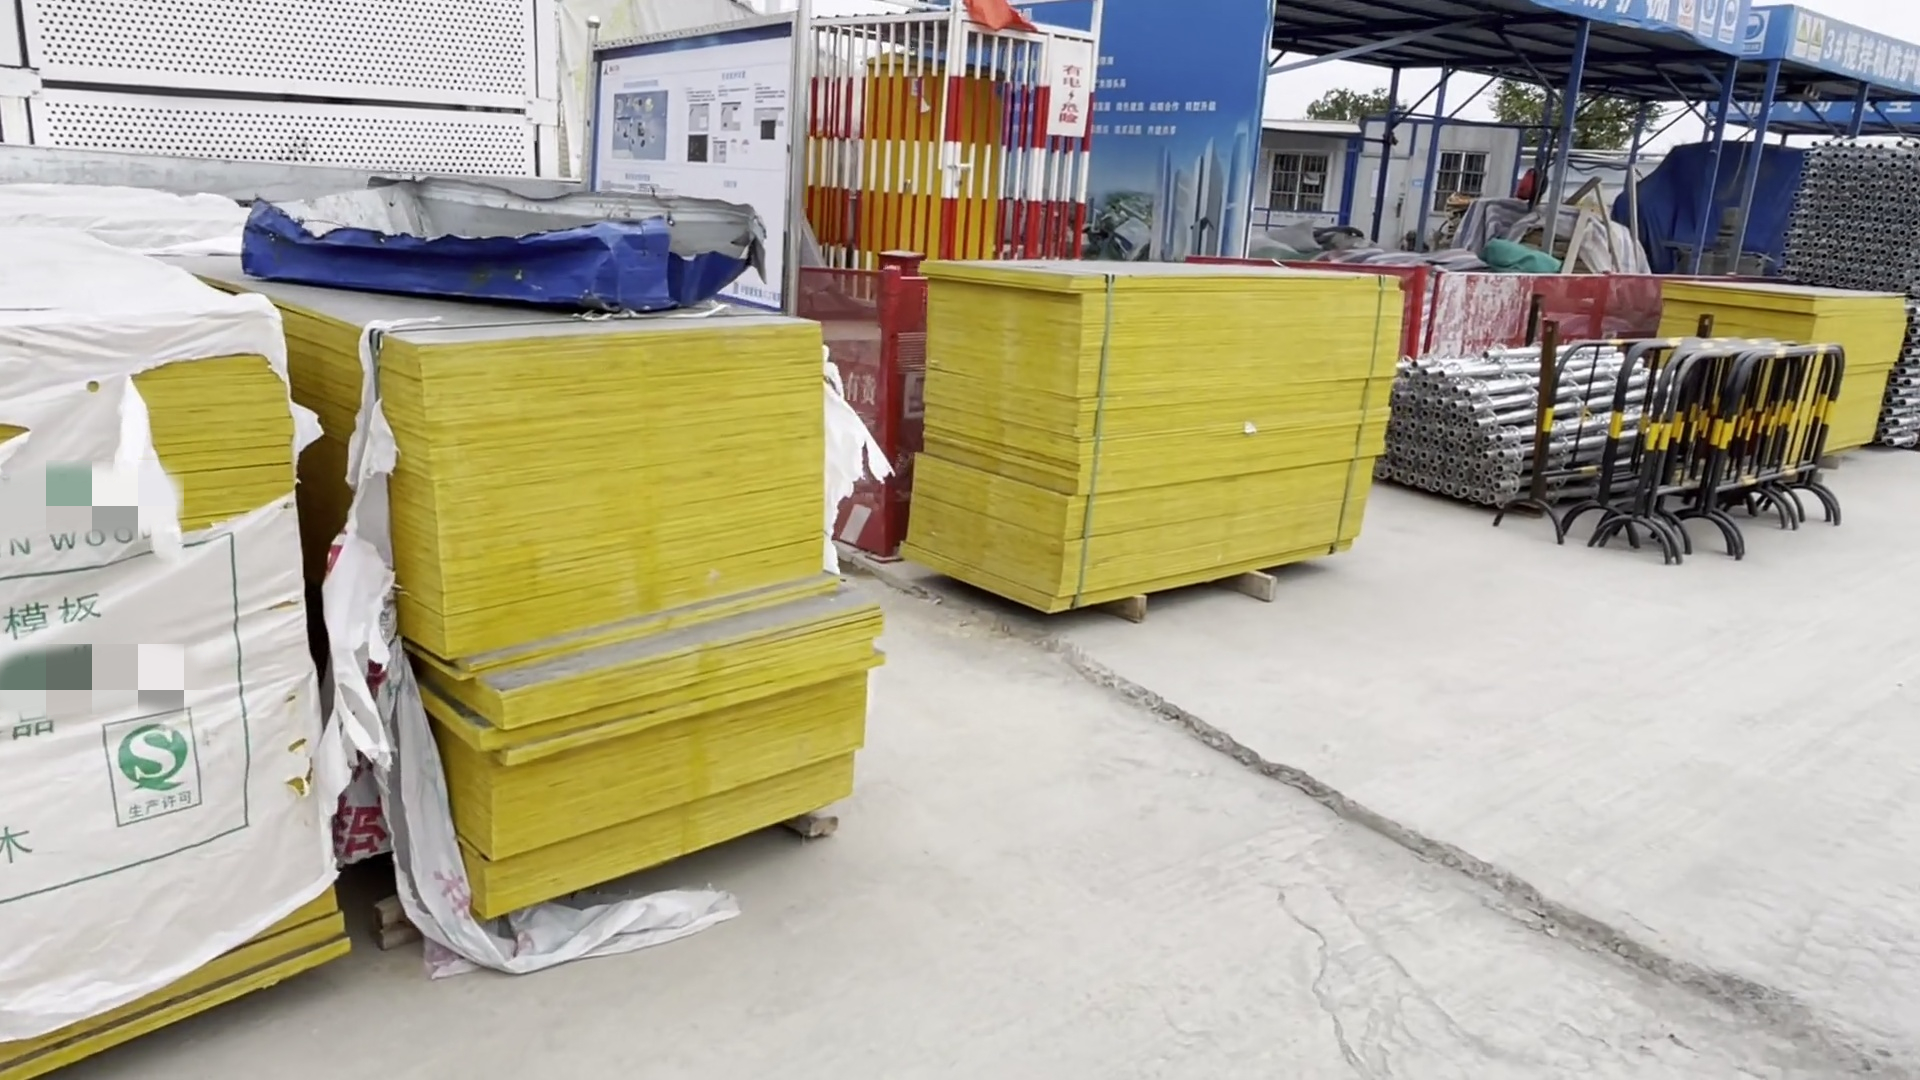board: (247, 272, 870, 876), (947, 245, 1389, 571), (1648, 281, 1899, 446)
ebox: (822, 59, 1000, 269)
fence: (1403, 264, 1658, 345)
scaffold: (1400, 351, 1650, 500)
slogan: (1654, 1, 1830, 71)
